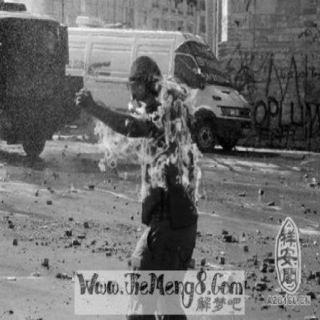other: (253, 203, 311, 309), (190, 288, 244, 314)
